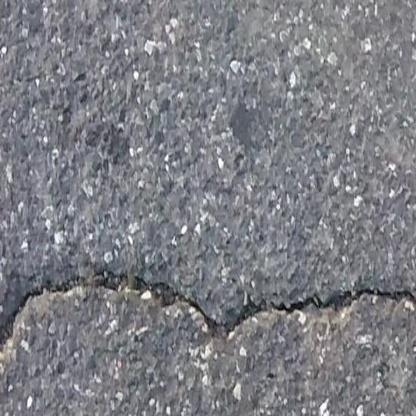Cracks: (0, 262, 416, 362)
